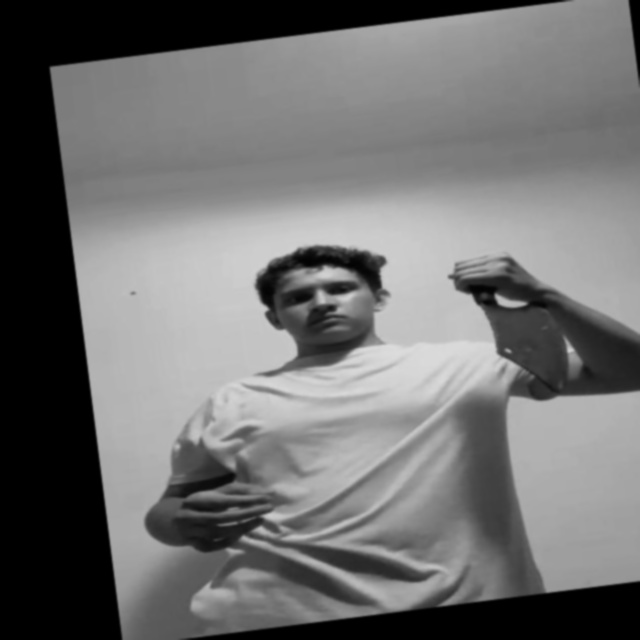Sharp-Object: (477, 292, 579, 399)
